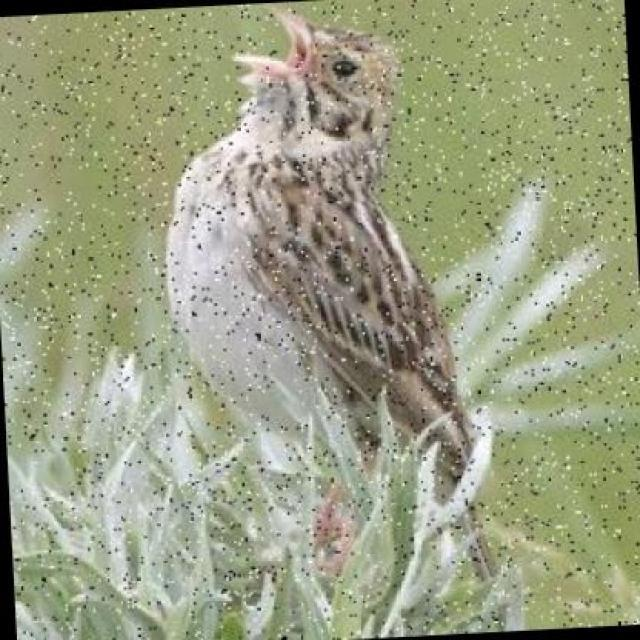Bird: (191, 10, 483, 575)
